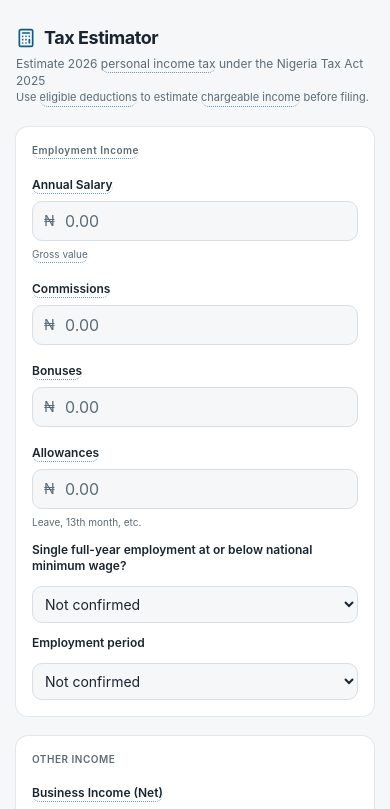
TaxCalculator glossary integration › calculates from a form submit so keyboard and button submission share one path
Type "1000000" into the field labelled "Annual Salary" at (195,220), box [32,200,358,240]
(page scrolled)
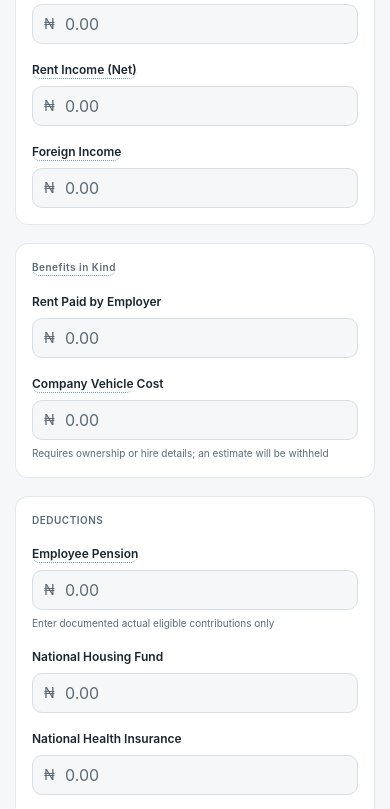
Submit the form named "2026 tax estimate calculator"
(page scrolled)
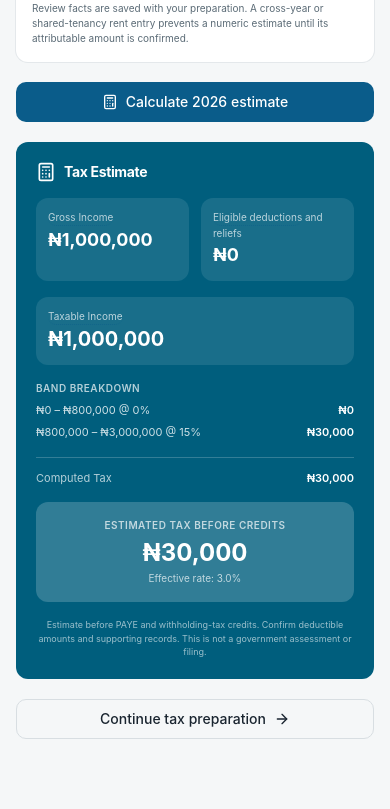
Expected: the message shows "₦30,000", [307,425,354,439]
